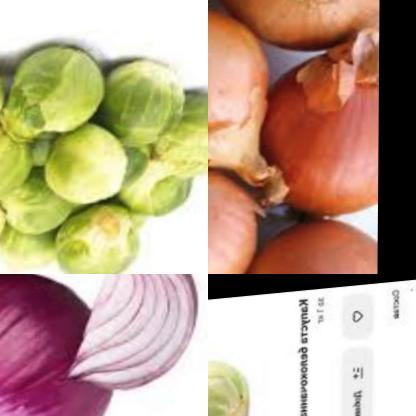brus capusta: (0, 6, 208, 274)
cabbage: (208, 355, 256, 416)
onion: (261, 26, 381, 241), (53, 274, 205, 416), (0, 274, 106, 416), (208, 0, 381, 79), (208, 7, 279, 192), (225, 215, 379, 274), (208, 167, 265, 274)
